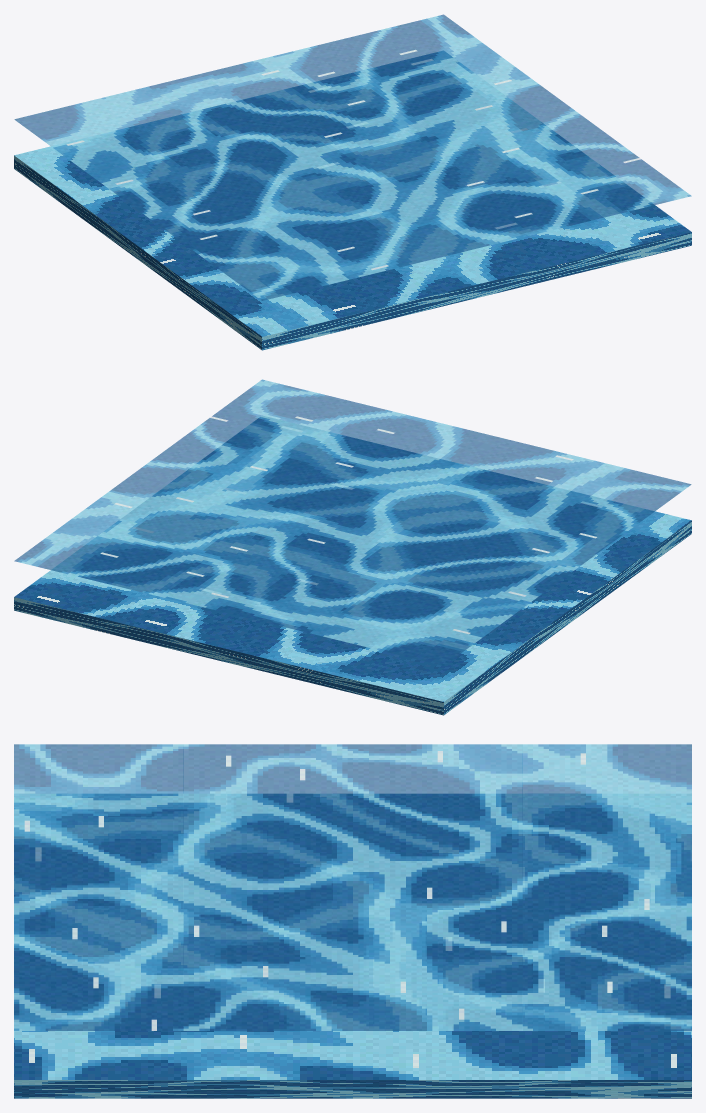
The model's file is agua.glb.
3 views of the same model, one above another, from view 1: azimuth 30°, elevation 25°; view 2: azimuth 150°, elevation 25°; view 3: azimuth 270°, elevation 25° (orthographic). The views are drawn at different scales.
Visible parts, largest first — view 1: LakeBed, Liquid_Water; view 2: LakeBed, Liquid_Water; view 3: LakeBed, Liquid_Water.
Part boxes in pixels (bbox=[...]): LakeBed: bbox=[14, 51, 691, 350]; Liquid_Water: bbox=[14, 14, 691, 300]; LakeBed: bbox=[14, 416, 691, 715]; Liquid_Water: bbox=[14, 379, 691, 665]; LakeBed: bbox=[14, 794, 691, 1098]; Liquid_Water: bbox=[14, 744, 691, 1030].
Size of the model in its own units: 2 by 0.22 by 2.
Materials: 2 (2 with a texture image).
